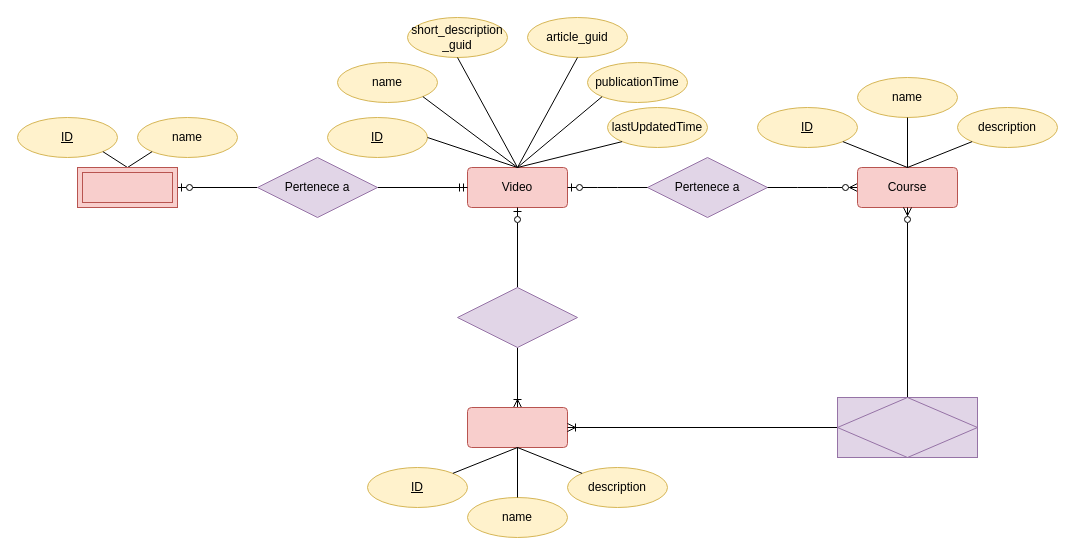
Some shapes in this 1075 by 555 pixel diagram are drawn without their labels. Each missing label, with the centre of its shape:
"Author" belongs at point (517, 427).
"Ha participado en" belongs at point (907, 427).
"Tiene" belongs at point (517, 317).
"Topic" belongs at point (127, 187).
